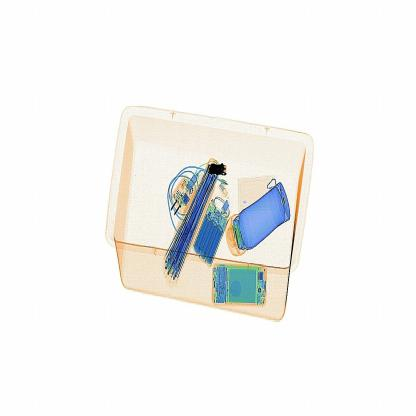scissors: (205, 150, 238, 190)
